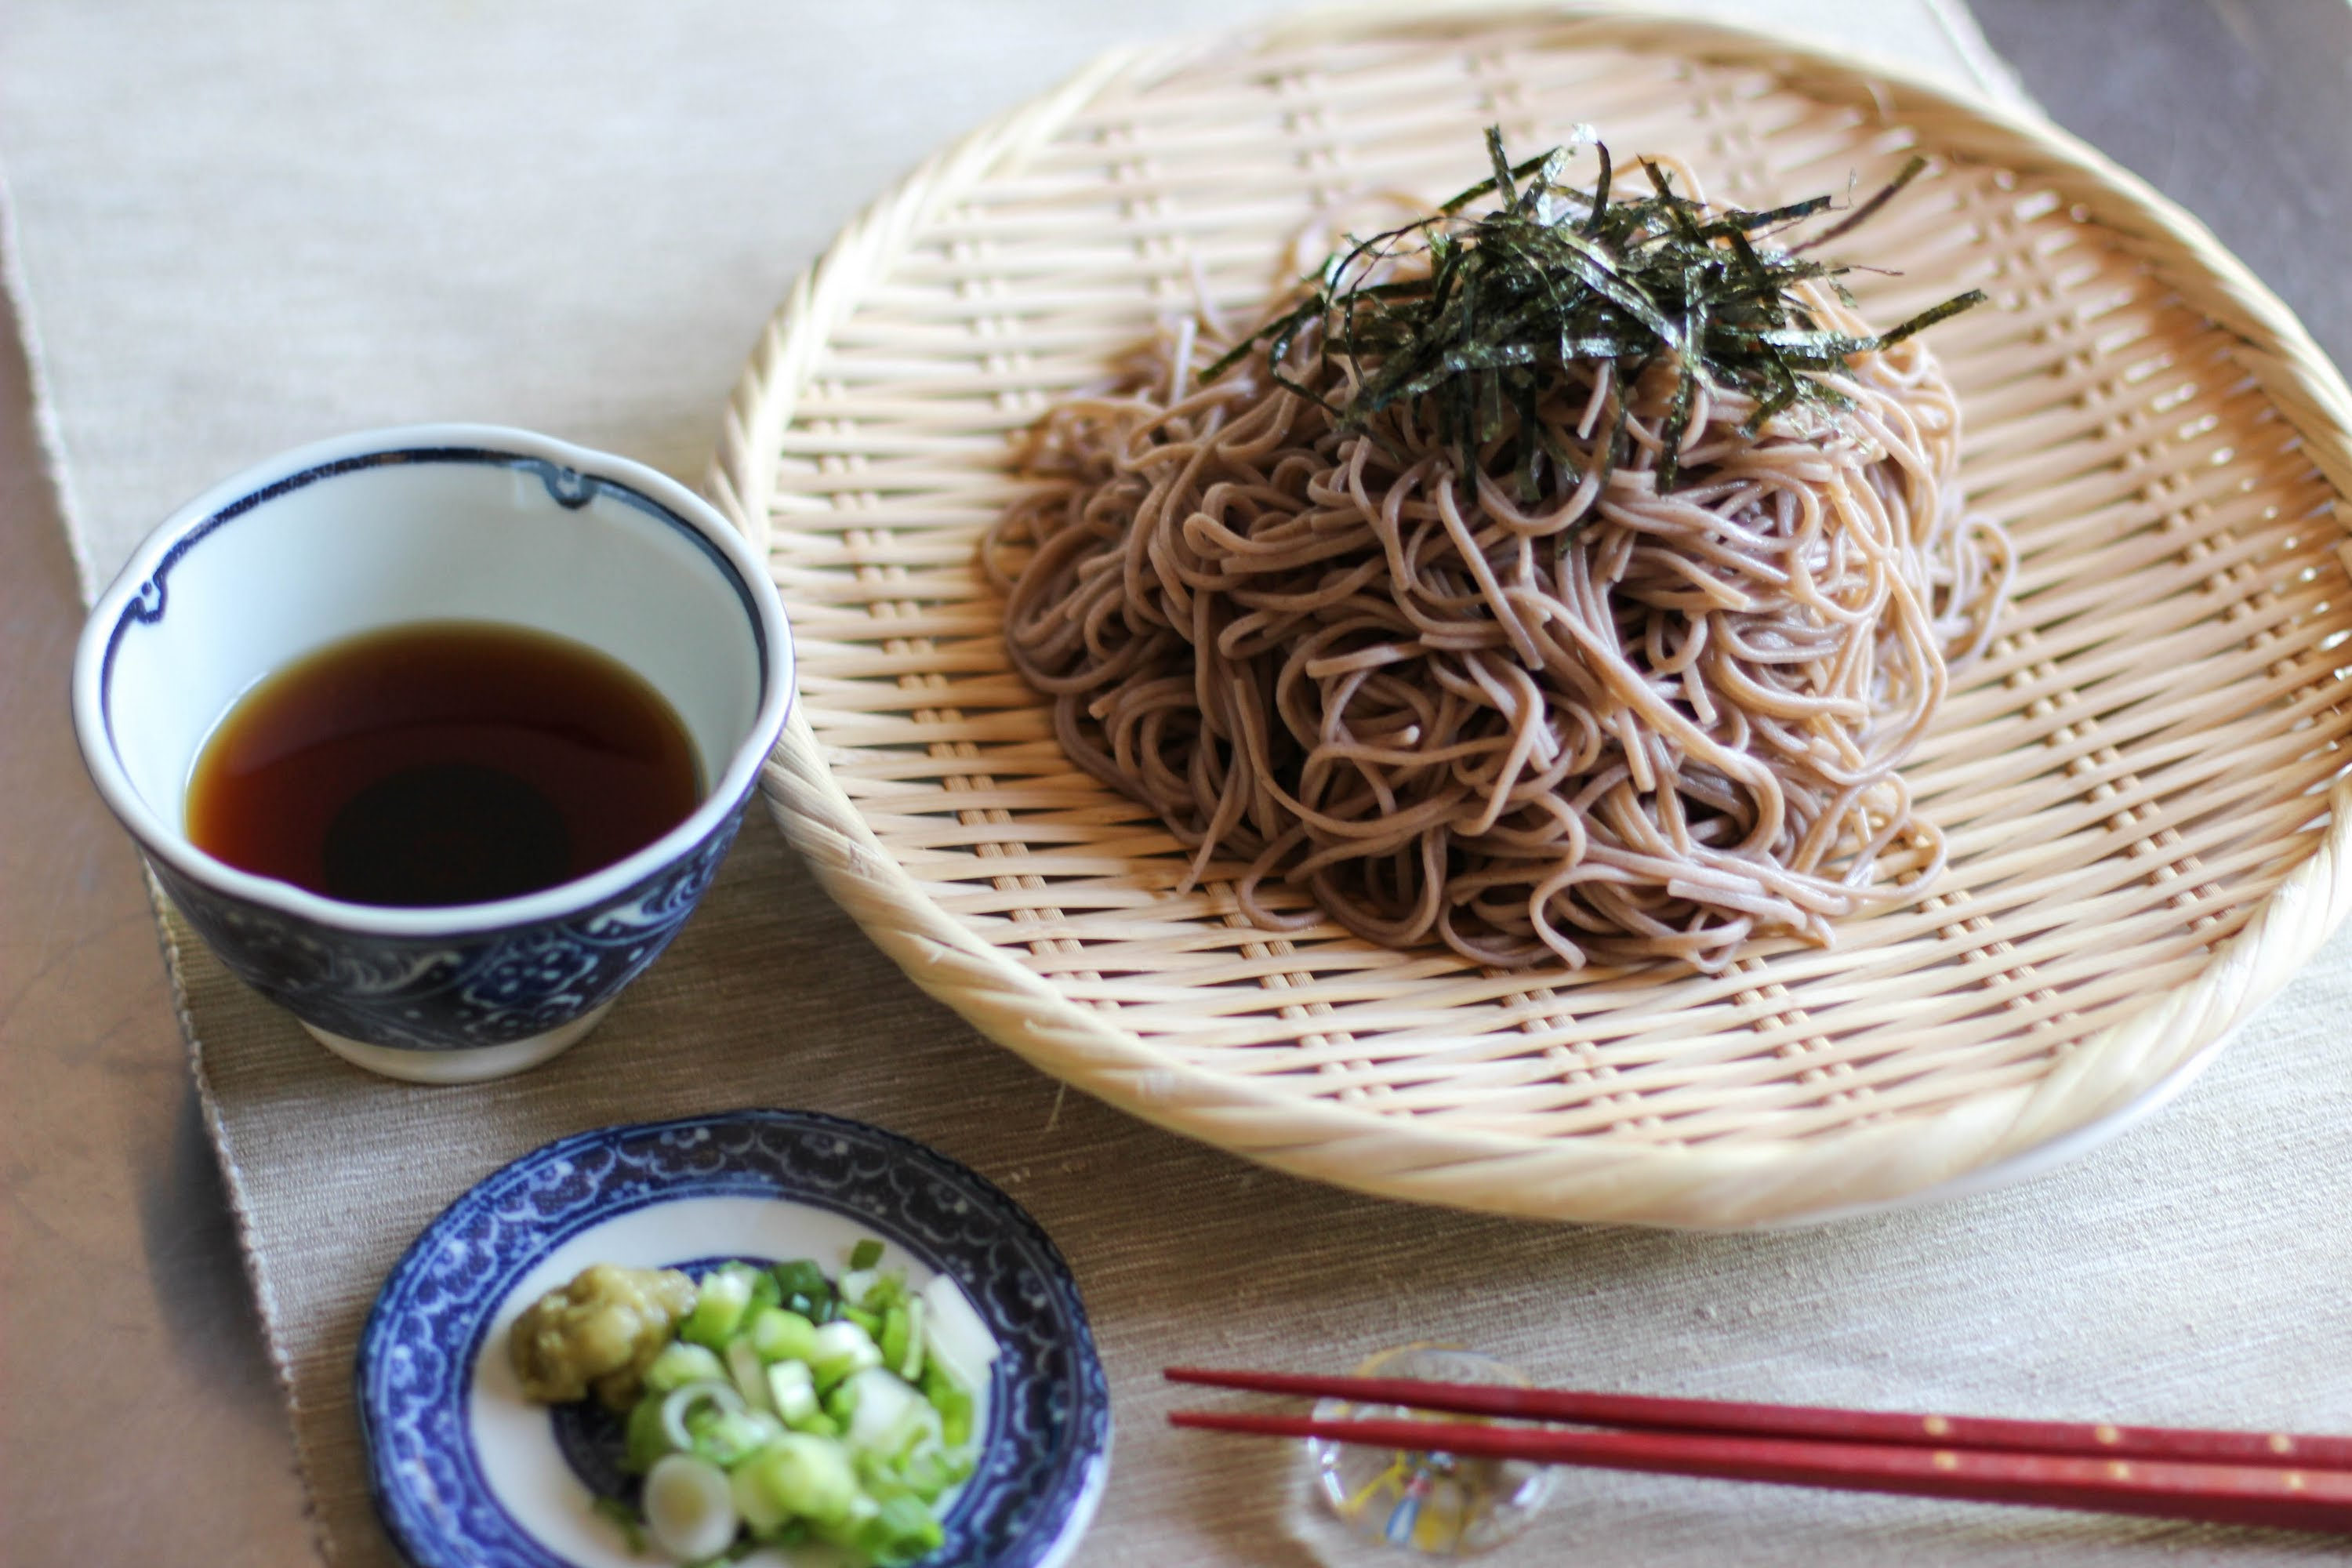Soba: (1012, 170, 2004, 987)
